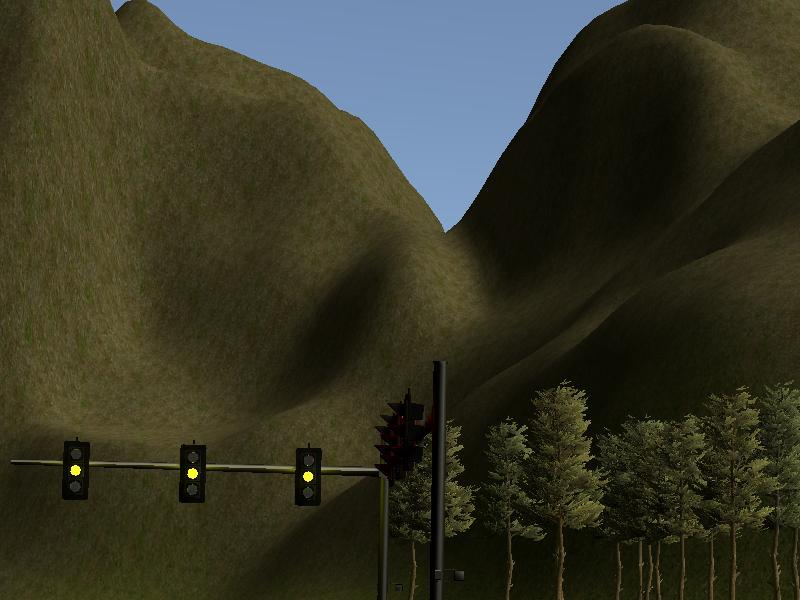Yellow: (293, 448, 321, 506), (178, 444, 205, 504), (62, 441, 88, 501)
